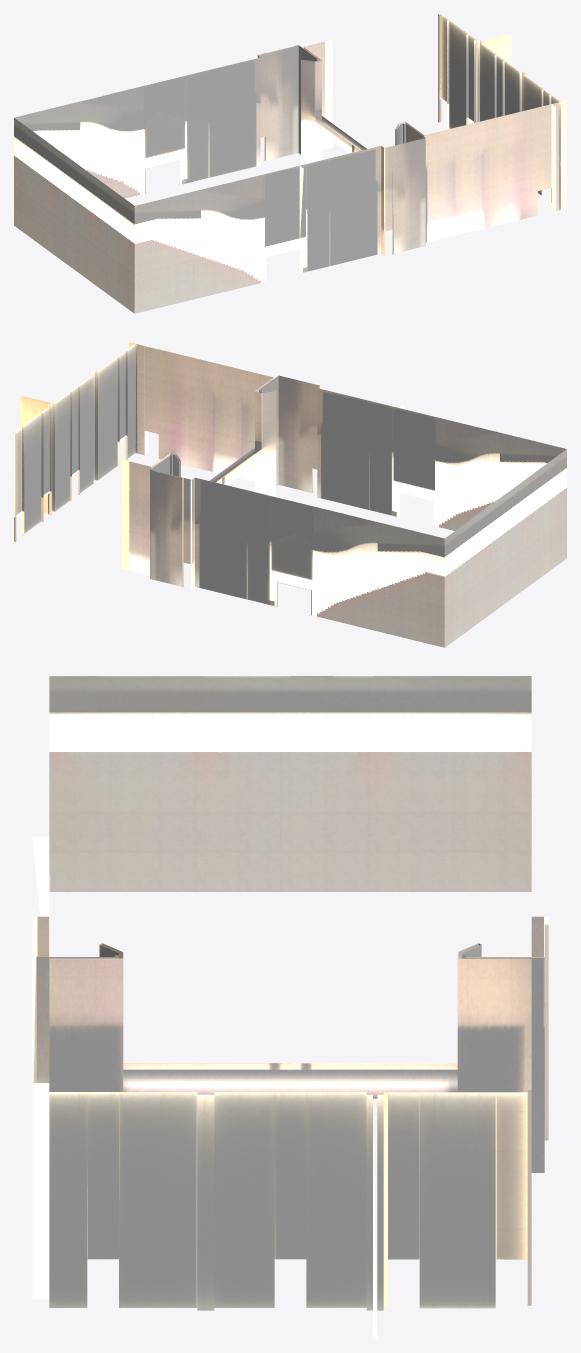
3 renders of one model, top to bottom at view 1: azimuth 30°, elevation 25°; view 2: azimuth 150°, elevation 25°; view 3: azimuth 270°, elevation 25°, orthographic. The views are drawn at different scales.
Parts seen in each view (by area): view 1: 室内-二层墙体Part1; view 2: 室内-二层墙体Part1; view 3: 室内-二层墙体Part1.
Boxes of the visible parts, <box> form: 室内-二层墙体Part1: <box>14,14,566,313</box>; 室内-二层墙体Part1: <box>14,342,566,647</box>; 室内-二层墙体Part1: <box>32,676,548,1338</box>.
Bounding box in the file's own units: 49.95 × 11.26 × 24.4.
